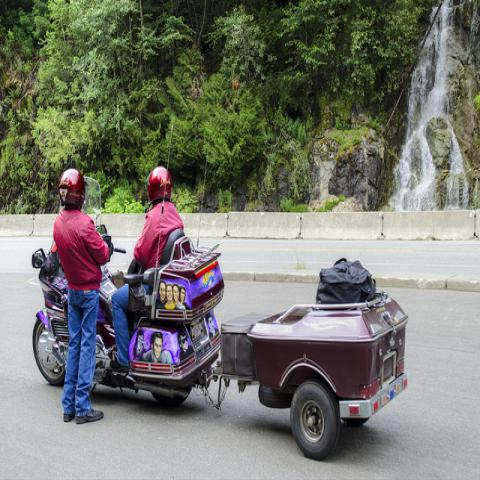motorcycle: (26, 228, 412, 462)
